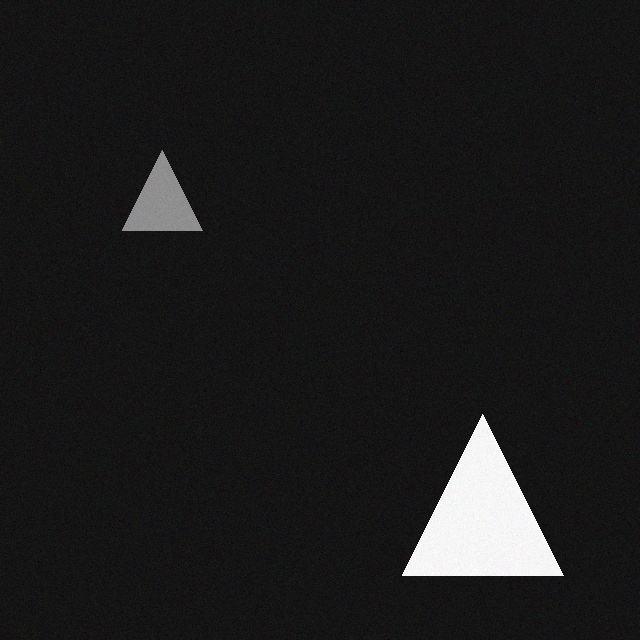triangle: (393, 425, 554, 586), (113, 161, 193, 241)
